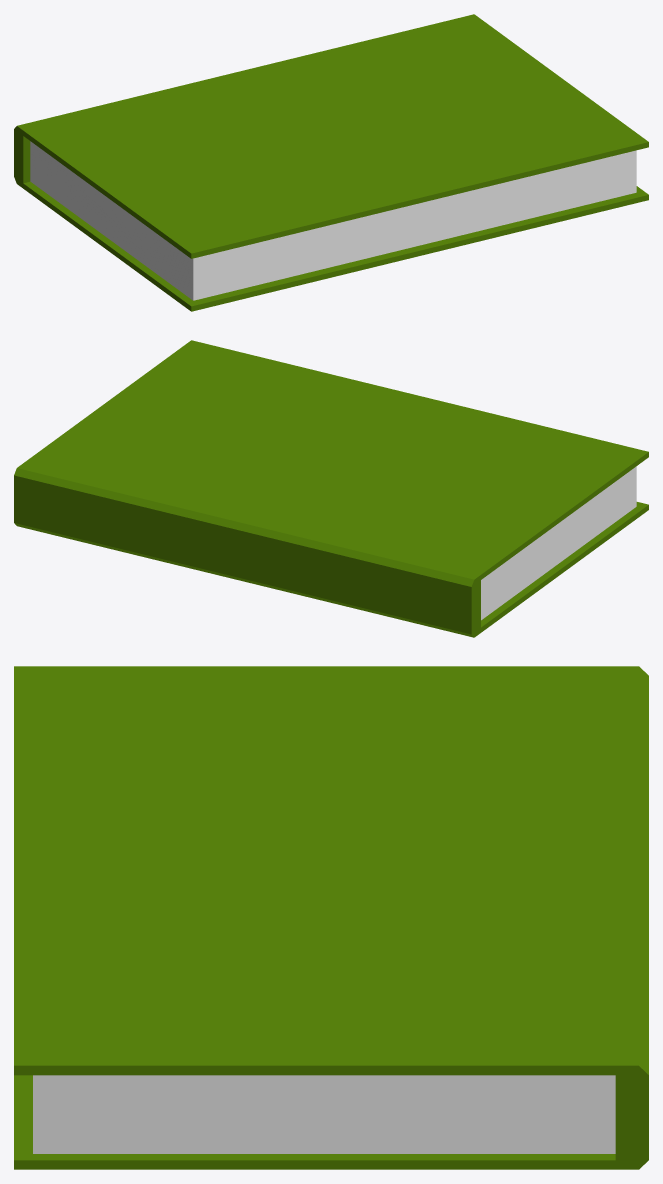
File: book.fbx
The picture shows the model from 3 angles, top to bottom: view 1: azimuth 30°, elevation 25°; view 2: azimuth 150°, elevation 25°; view 3: azimuth 270°, elevation 25°; orthographic projection. The views are drawn at different scales.
Visible parts, largest first — view 1: Cube; view 2: Cube; view 3: Cube.
Part boxes in pixels (x1=…): Cube: x1=14, y1=14, x2=648, y2=311; Cube: x1=14, y1=340, x2=648, y2=637; Cube: x1=14, y1=666, x2=648, y2=1169.
Size of the model in its own units: 3.03 by 0.3673 by 2.03.
